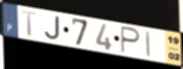4: (95, 21, 114, 52)
7: (71, 16, 89, 48)
I: (145, 30, 152, 60)
J: (43, 15, 61, 41)
P: (120, 25, 142, 56)
T: (20, 9, 38, 38)
